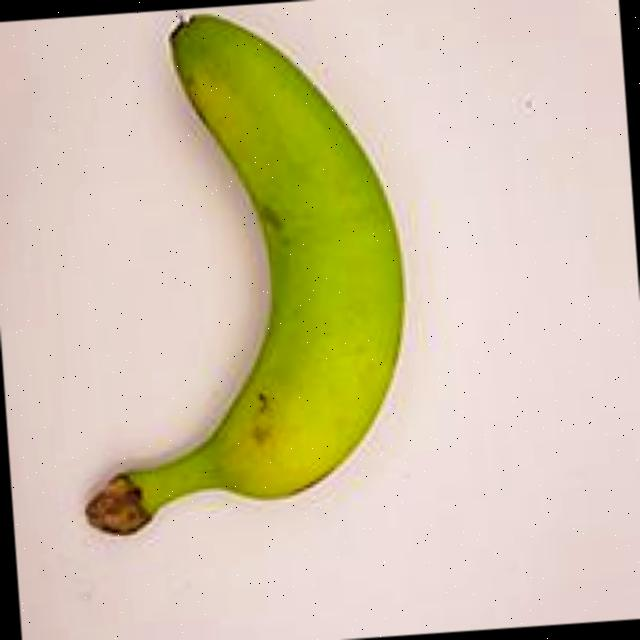Unripe: (0, 0, 450, 557)
